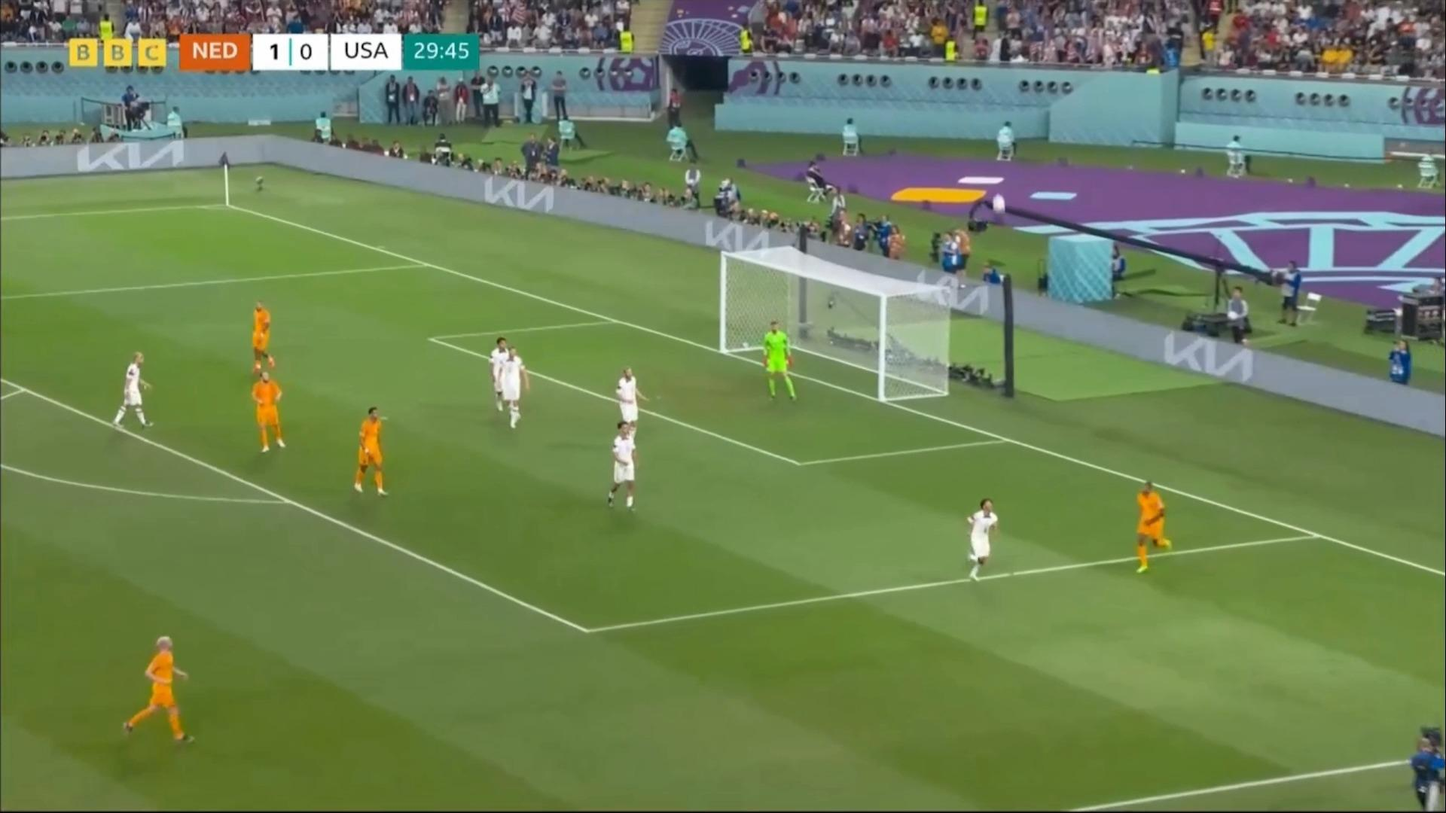Player: (124, 632, 197, 747), (1125, 476, 1179, 578), (347, 402, 397, 498), (959, 496, 1007, 584), (249, 364, 293, 456), (111, 350, 157, 433), (607, 421, 644, 515), (499, 345, 533, 432), (246, 296, 280, 381), (762, 320, 797, 402), (614, 368, 642, 442), (488, 337, 513, 409), (1276, 260, 1302, 327), (1226, 287, 1251, 347)
